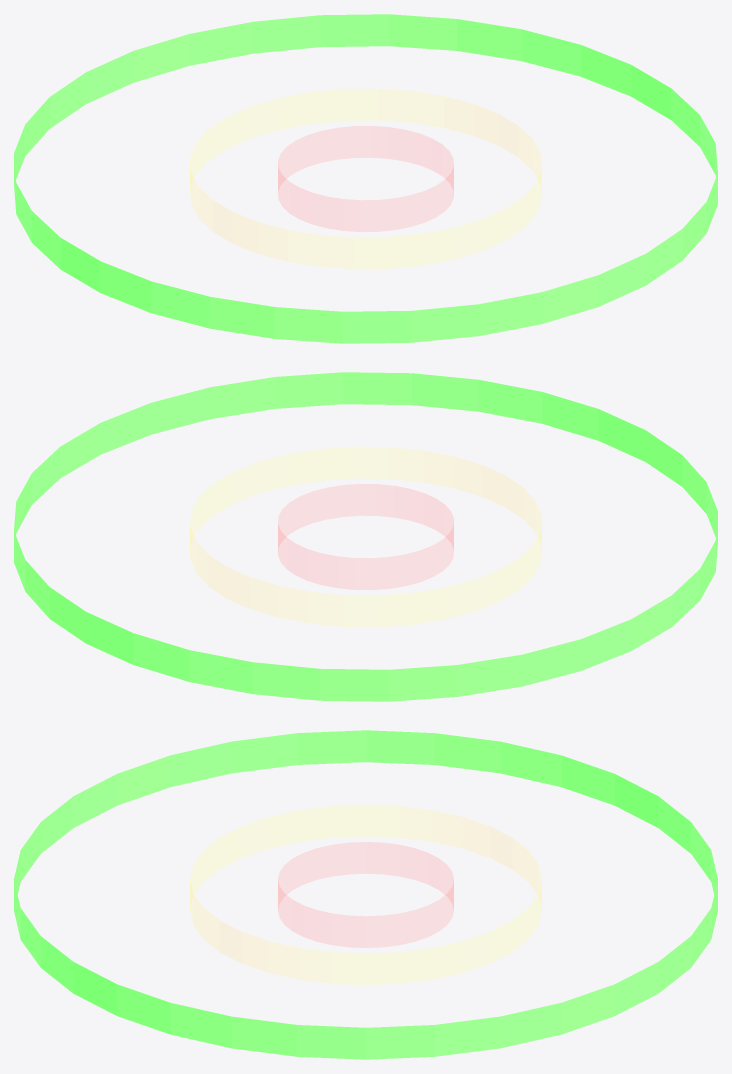
File: distance_scale.glb
3 renders of one model, top to bottom at view 1: azimuth 30°, elevation 25°; view 2: azimuth 150°, elevation 25°; view 3: azimuth 270°, elevation 25°, orthographic.
Visible parts, largest first — view 1: M20, M10, M5; view 2: M20, M10, M5; view 3: M20, M10, M5.
Boxes of the visible parts, x1,y1,x2,y2 form: M20: [14, 14, 717, 343]; M10: [190, 89, 541, 268]; M5: [278, 126, 453, 231]; M20: [14, 372, 717, 701]; M10: [190, 447, 541, 626]; M5: [278, 484, 453, 589]; M20: [14, 730, 717, 1059]; M10: [190, 805, 541, 984]; M5: [278, 842, 453, 947].
Bounding box in the file's own units: 40 × 2 × 40.
